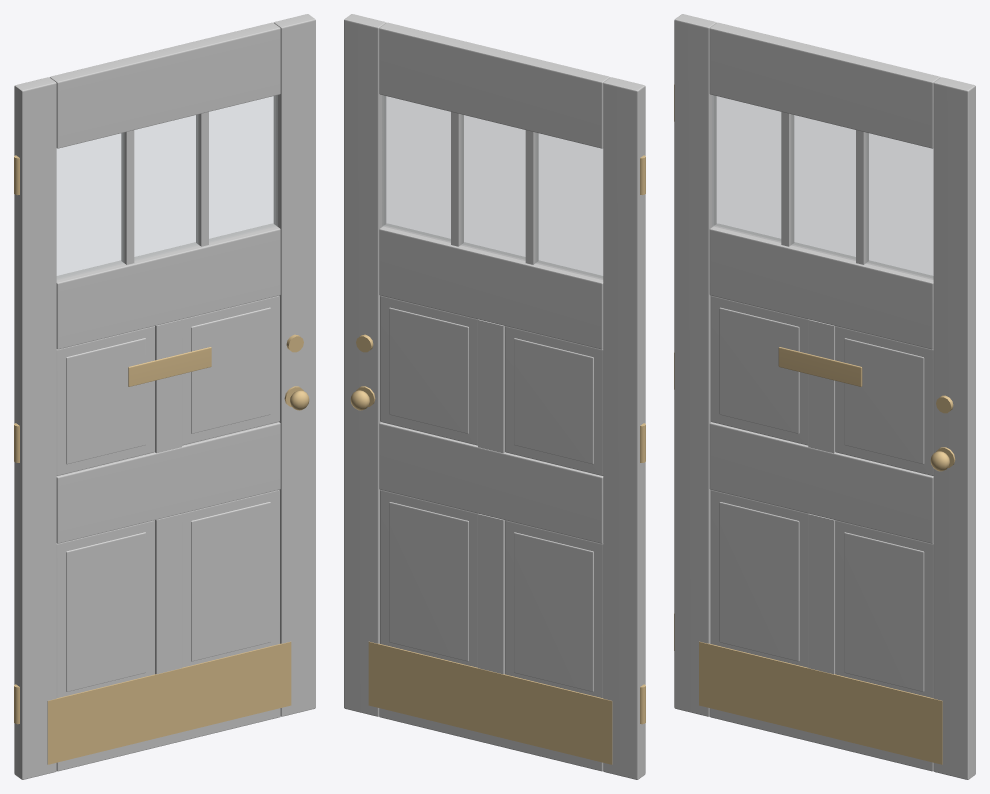
File: SM_Door_House_Front.fbx
The picture shows the model from 3 angles, left to right: view 1: azimuth 30°, elevation 25°; view 2: azimuth 150°, elevation 25°; view 3: azimuth 330°, elevation 25°; orthographic projection.
Parts seen in each view (by area): view 1: SM_Door_House_Front_2; view 2: SM_Door_House_Front_2; view 3: SM_Door_House_Front_2.
Part boxes in pixels (x1,y1,x2,y2): SM_Door_House_Front_2: (14, 14, 315, 779); SM_Door_House_Front_2: (344, 14, 645, 779); SM_Door_House_Front_2: (674, 14, 975, 779).
Size of the model in its own units: 93.05 by 206 by 14.98.
